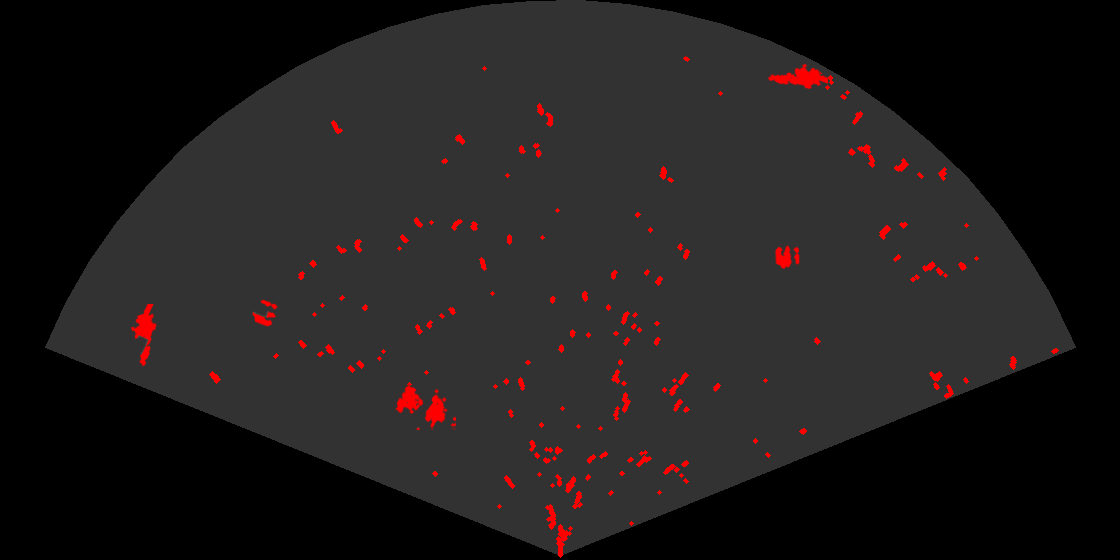ball: (251, 298, 279, 328), (774, 244, 801, 270)
cage: (394, 384, 456, 430)
frogman: (129, 304, 158, 368), (766, 62, 828, 91)
